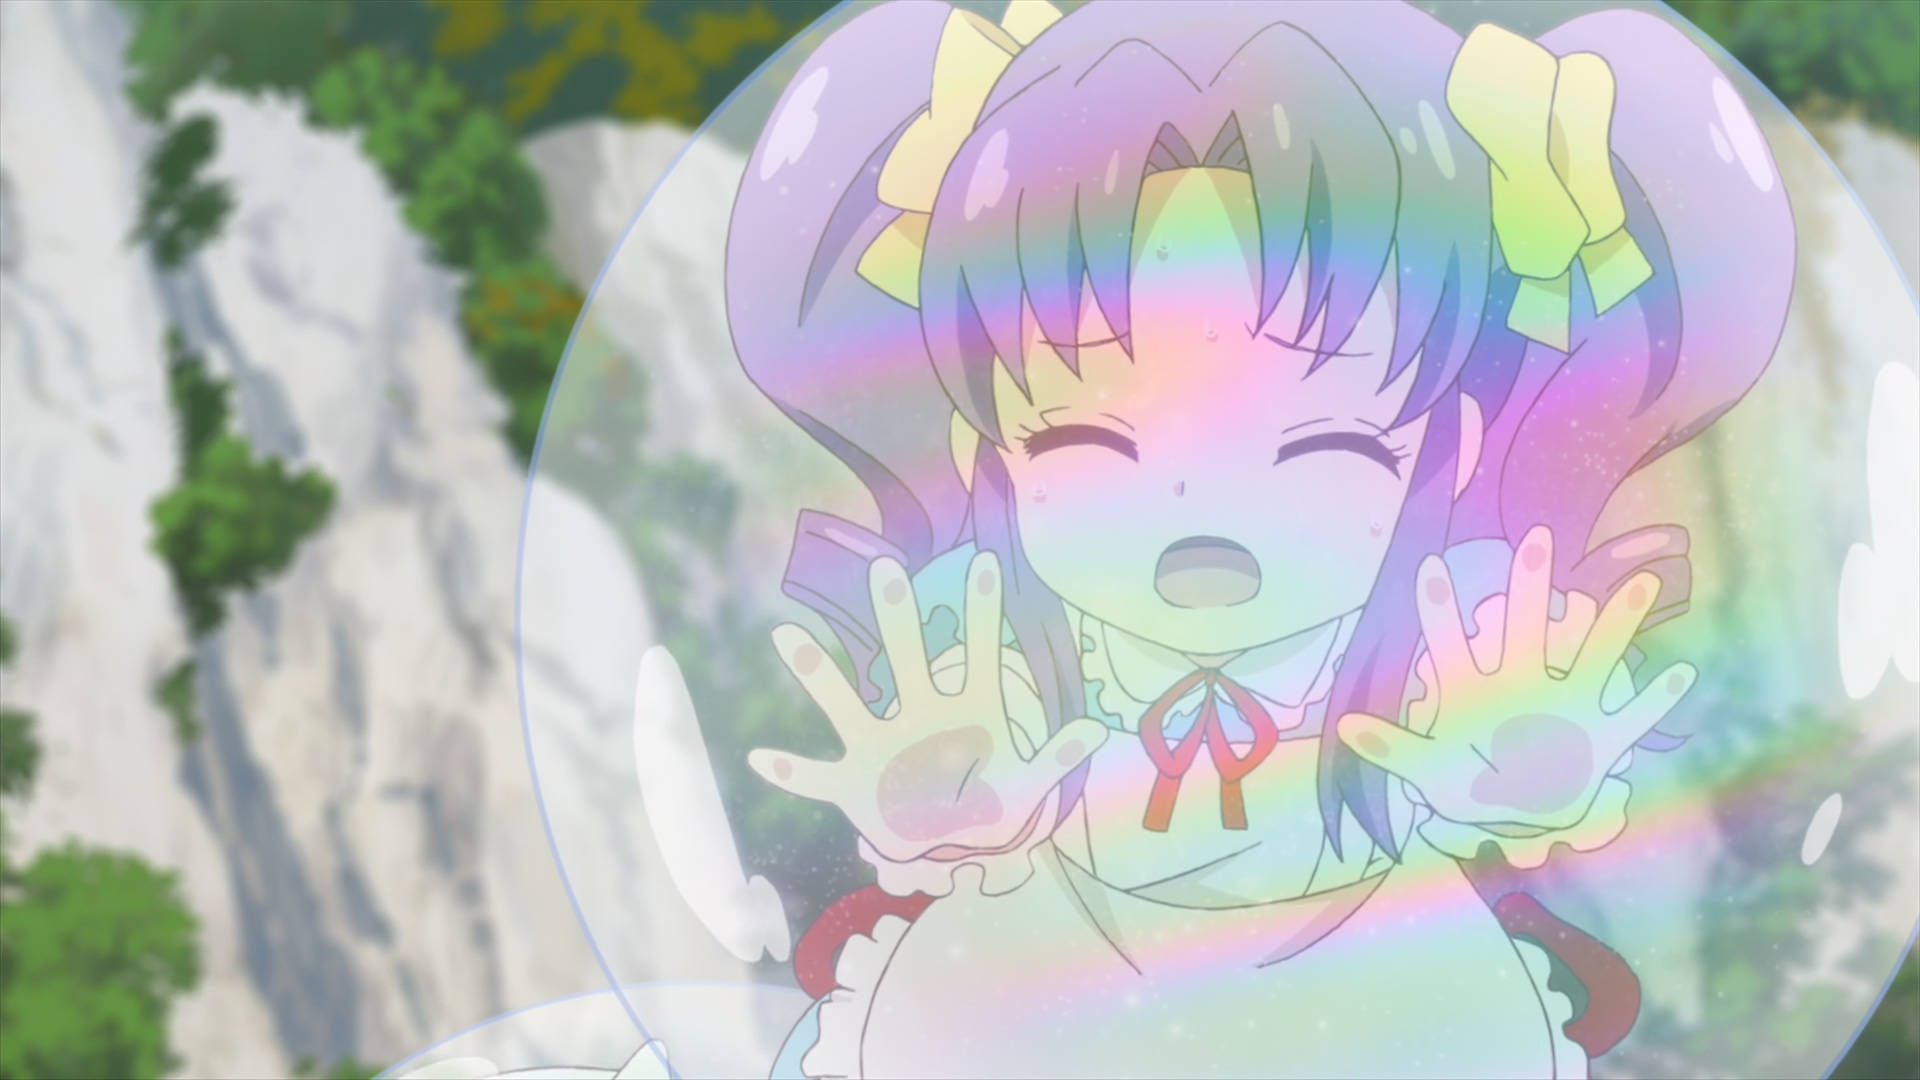阿菊: (724, 1, 1793, 1080)
